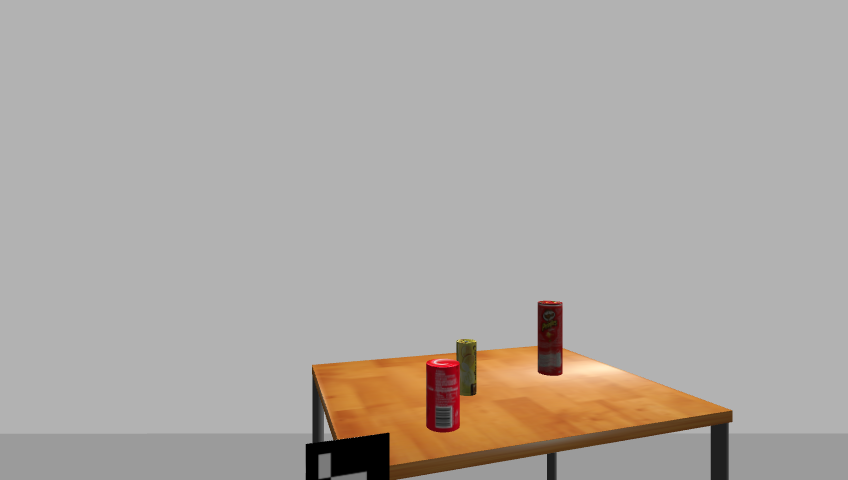aruco marker: (299, 432, 396, 480)
biscuits pack: (455, 338, 478, 398)
coke can: (424, 359, 461, 433)
dinner table: (303, 349, 741, 479)
pringles can: (534, 301, 565, 378)
